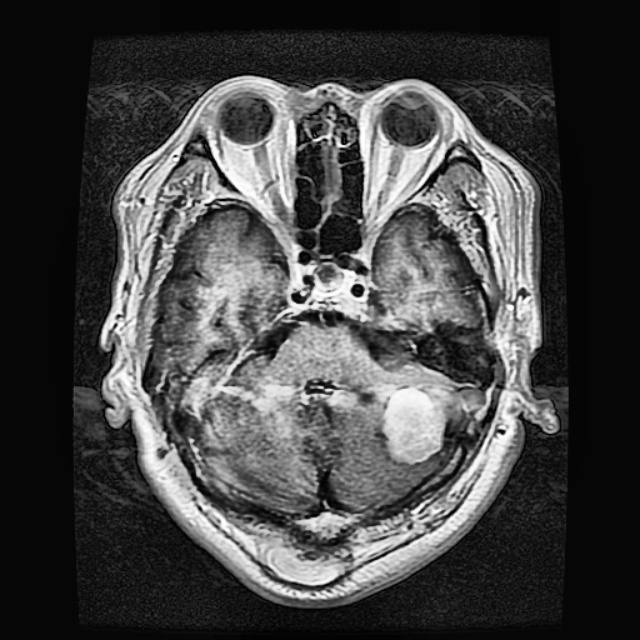Glioma: (384, 388, 445, 460)
